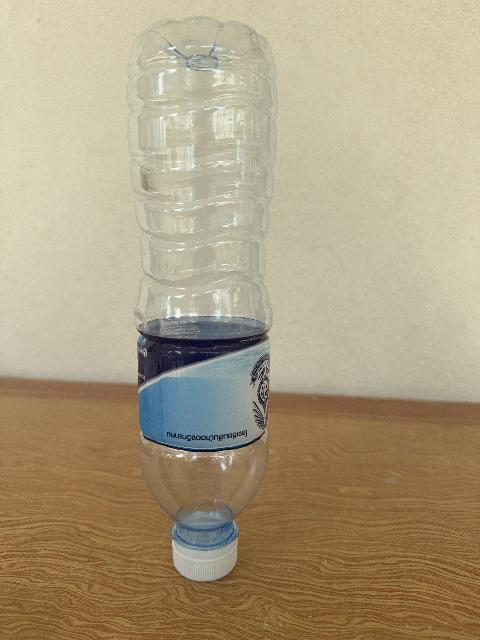bottle: (128, 18, 276, 580)
